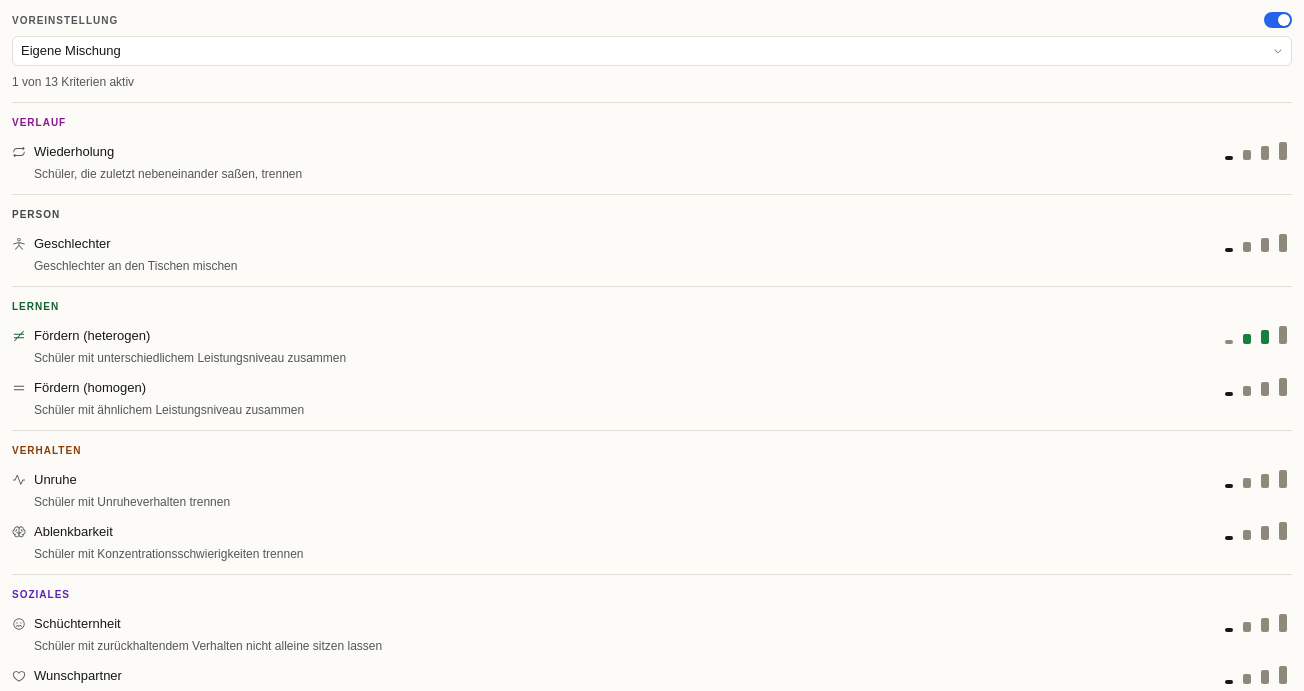
SmartMixControls — comfortable density › master switch disables all criteria and shows that mixing is random
This screenshot has width=1304, height=691.
Click the switch named "Alle Kriterien" at (1278, 20), box [1264,12,1292,28]
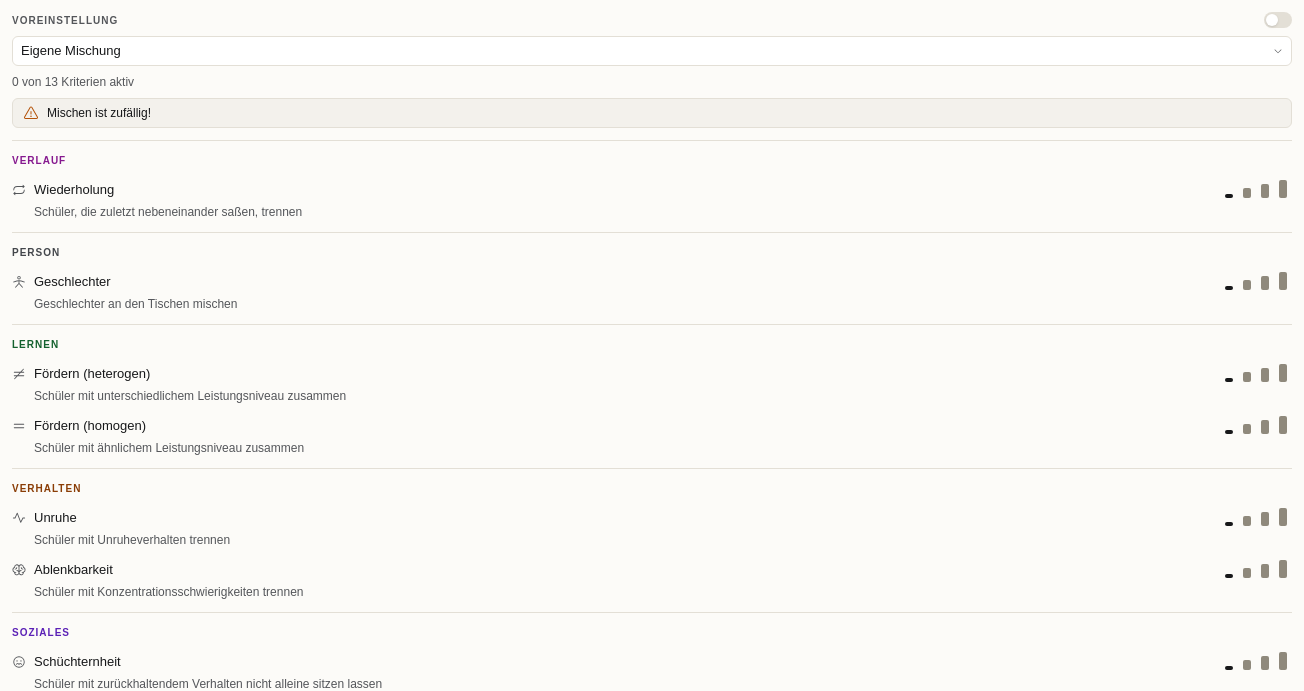
Expected: the text "Mischen ist zufällig!" is shown, [12,98,1292,128]
